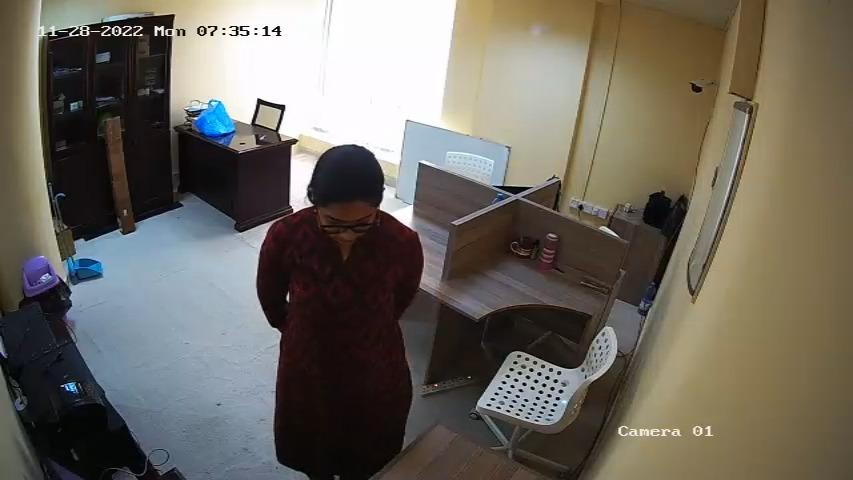no_apron: (288, 248, 399, 446)
